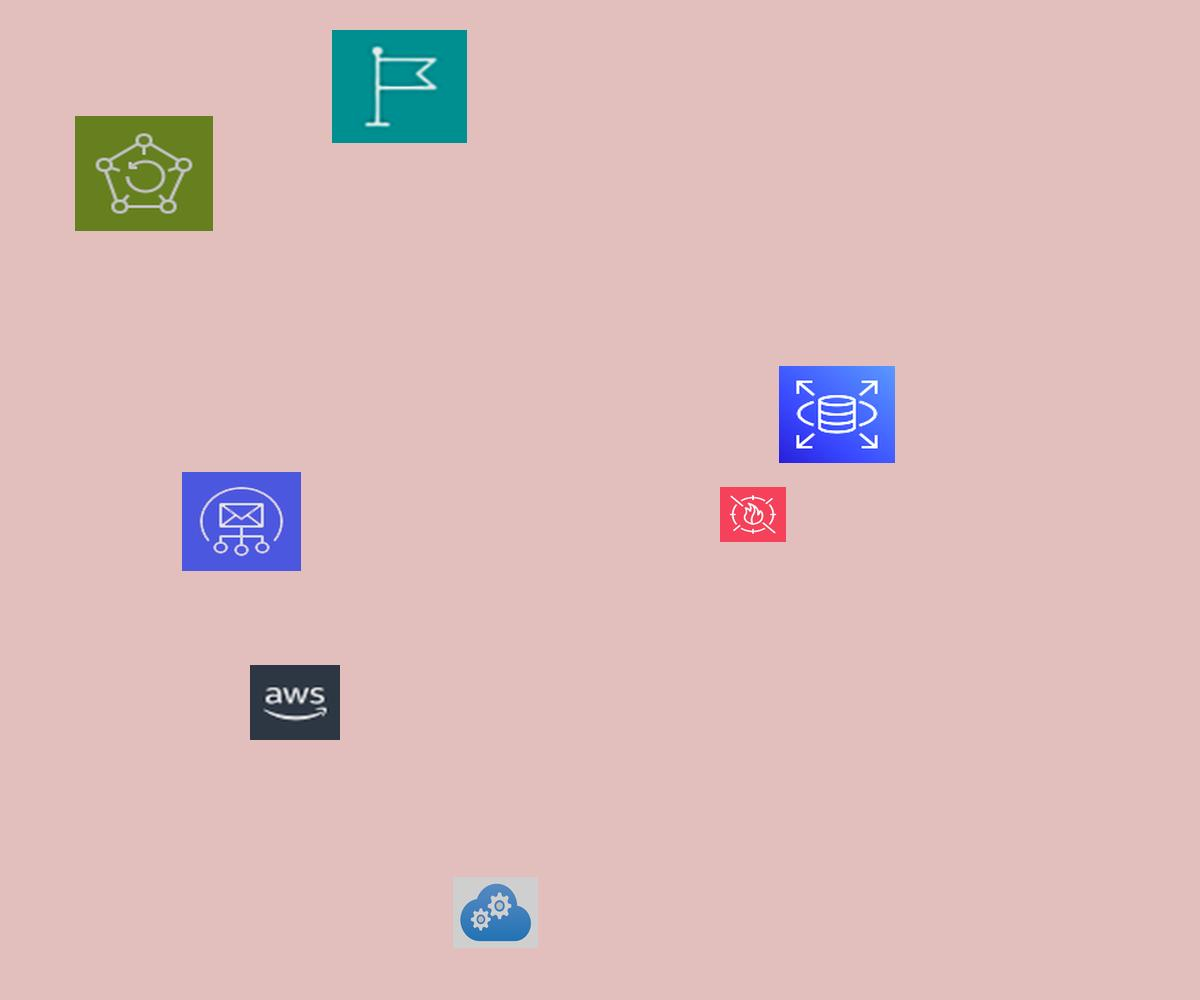AWS-Backup: (75, 116, 213, 231)
AWS-Cloud-logo: (250, 665, 340, 740)
AWS-RDS: (779, 366, 895, 463)
AWS-Region: (332, 30, 467, 143)
AWS-Simple-Email-Service: (182, 472, 301, 571)
AWS-WAF: (720, 487, 786, 542)
Azure_cloud_services: (453, 877, 538, 948)
